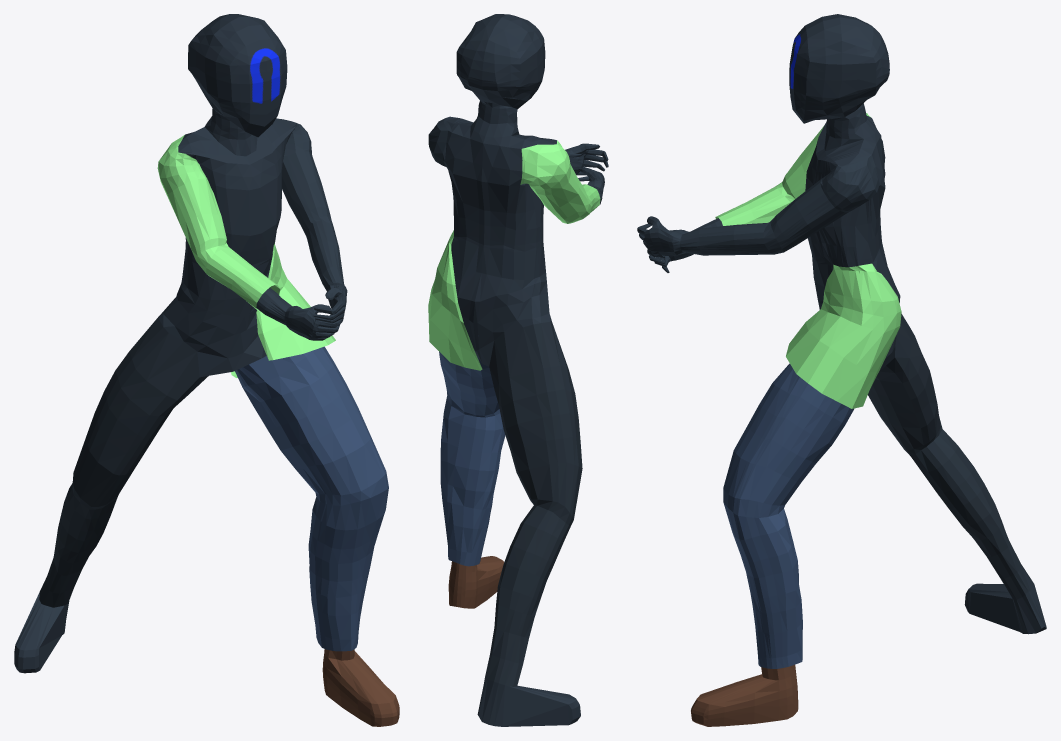
File: Mar_WR_000014.obj
3 renders of one model, left to right at view 1: azimuth 30°, elevation 25°; view 2: azimuth 150°, elevation 25°; view 3: azimuth 270°, elevation 25°, orthographic. The views are drawn at different scales.
Parts seen in each view (by area): view 1: Cube.000_Cube.001; view 2: Cube.000_Cube.001; view 3: Cube.000_Cube.001.
Part boxes in pixels (x1,y1,x2,y2): Cube.000_Cube.001: (14, 14, 399, 726); Cube.000_Cube.001: (428, 14, 608, 726); Cube.000_Cube.001: (637, 14, 1046, 726).
Bounding box in the file's own units: 1.46 × 3.72 × 2.07.
